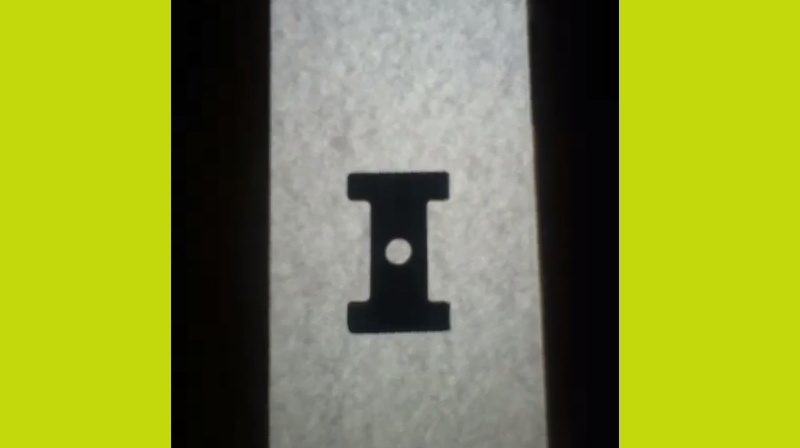O002: (341, 165, 453, 338)
